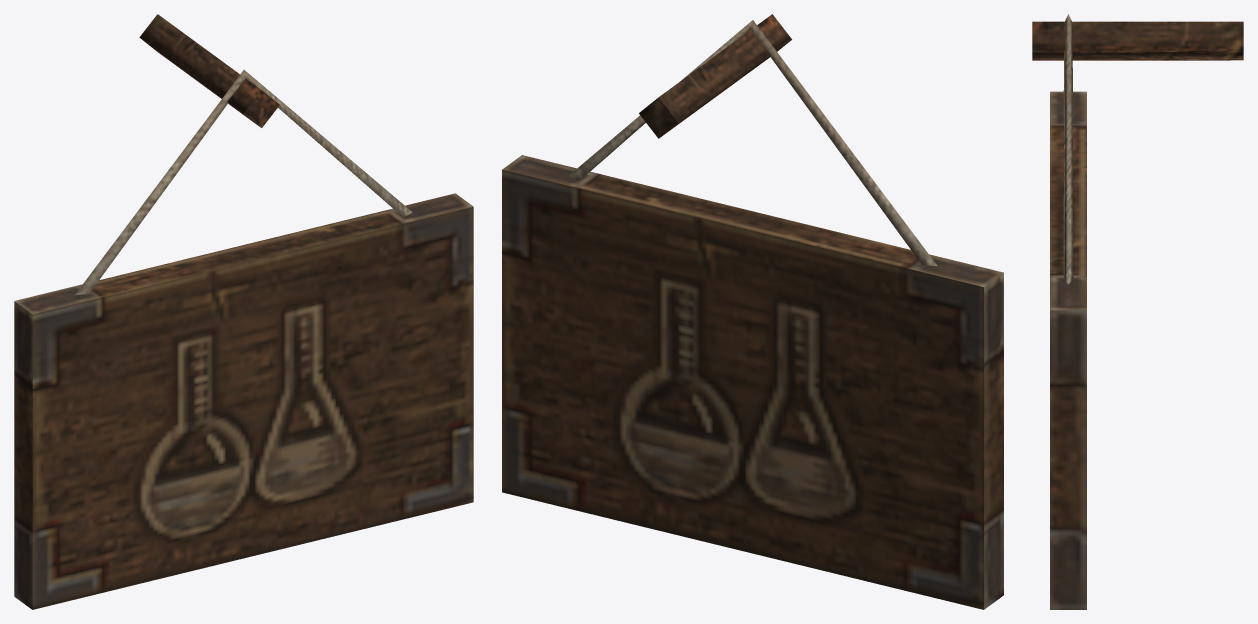
Rendered from Sign01_c.FBX.
3 views of the same model, side by side, from view 1: azimuth 30°, elevation 25°; view 2: azimuth 150°, elevation 25°; view 3: azimuth 270°, elevation 25° (orthographic). The views are drawn at different scales.
Parts seen in each view (by area): view 1: Sign01_c; view 2: Sign01_c; view 3: Sign01_c.
Part boxes in pixels (<box>): Sign01_c: <box>14,14,473,609</box>; Sign01_c: <box>502,14,1003,609</box>; Sign01_c: <box>1032,14,1243,609</box>.
Size of the model in its own units: 80 by 83.15 by 32.73.
